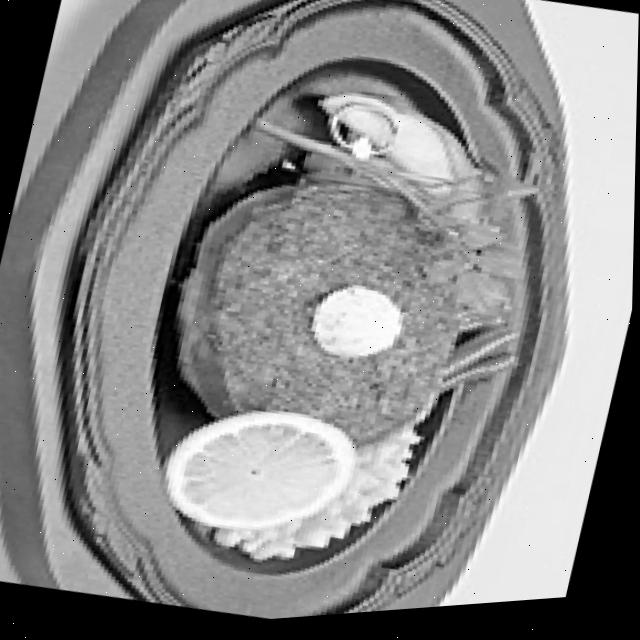牛肉菜式: (147, 140, 504, 486)
